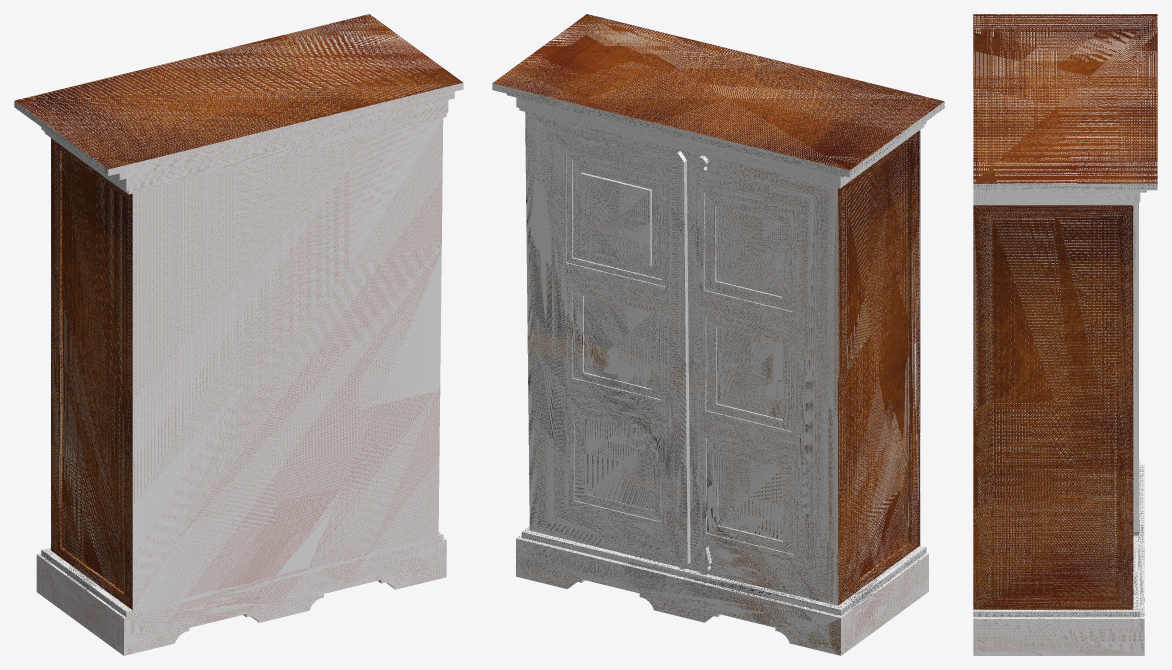
3 views of the same model, side by side, from view 1: azimuth 30°, elevation 25°; view 2: azimuth 150°, elevation 25°; view 3: azimuth 270°, elevation 25° (orthographic). The views are drawn at different scales.
Visible parts, largest first — view 1: mesh1_mesh1-geometry; view 2: mesh1_mesh1-geometry; view 3: mesh1_mesh1-geometry.
Boxes of the visible parts, x1,y1,x2,y2 form: mesh1_mesh1-geometry: [14, 14, 463, 655]; mesh1_mesh1-geometry: [492, 14, 944, 655]; mesh1_mesh1-geometry: [973, 14, 1157, 655].
Size of the model in its own units: 0.5821 by 0.7681 by 0.2668.
